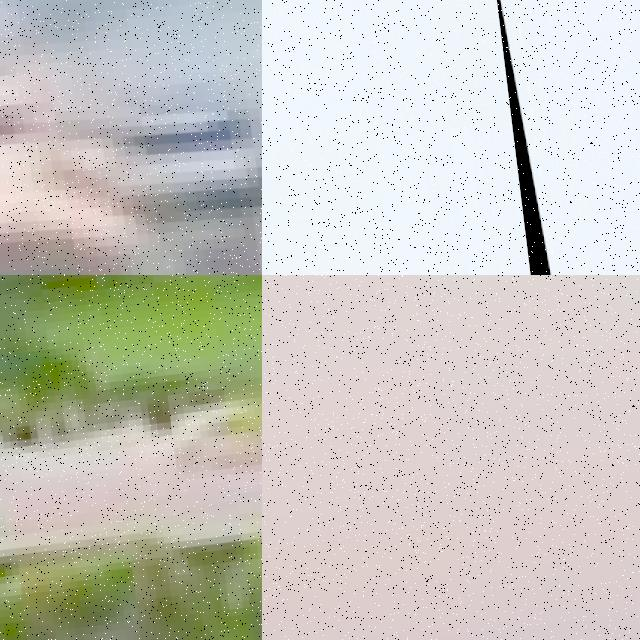drone: (0, 0, 262, 275), (488, 0, 640, 275)
